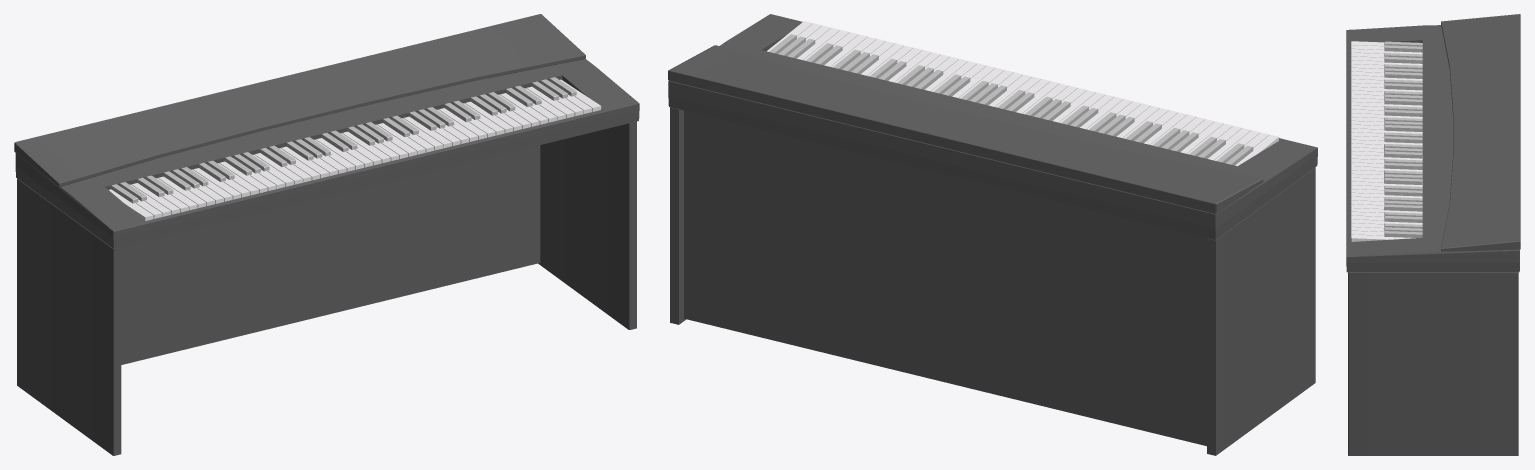
The model's file is 피아노.fbx.
The picture shows the model from 3 angles, left to right: view 1: azimuth 30°, elevation 25°; view 2: azimuth 150°, elevation 25°; view 3: azimuth 270°, elevation 25°; orthographic projection. The views are drawn at different scales.
Parts seen in each view (by area): view 1: Box006, Box001, Box002, Box004, Box005, Box003, Object001; view 2: Box006, Box002, Box001, Box004, Box003, Object001, Box005; view 3: Box005, Box001, Box002, Box003, Object001.
Part boxes in pixels (<box>): Box006: <box>121,145,540,364</box>; Box001: <box>14,14,585,186</box>; Box002: <box>15,58,639,248</box>; Box004: <box>17,178,121,455</box>; Box005: <box>538,121,636,329</box>; Box003: <box>109,79,601,220</box>; Object001: <box>111,77,576,203</box>; Box006: <box>684,110,1206,446</box>; Box002: <box>668,14,1317,240</box>; Box001: <box>668,45,1263,213</box>; Box004: <box>1207,167,1315,455</box>; Box003: <box>767,21,1278,166</box>; Object001: <box>769,34,1253,165</box>; Box005: <box>670,107,685,324</box>; Box005: <box>1348,272,1518,455</box>; Box001: <box>1441,14,1520,251</box>; Box002: <box>1346,25,1519,272</box>; Box003: <box>1351,41,1422,241</box>; Object001: <box>1384,41,1422,237</box>.
Bounding box in the file's own units: 515 × 227 × 167.
